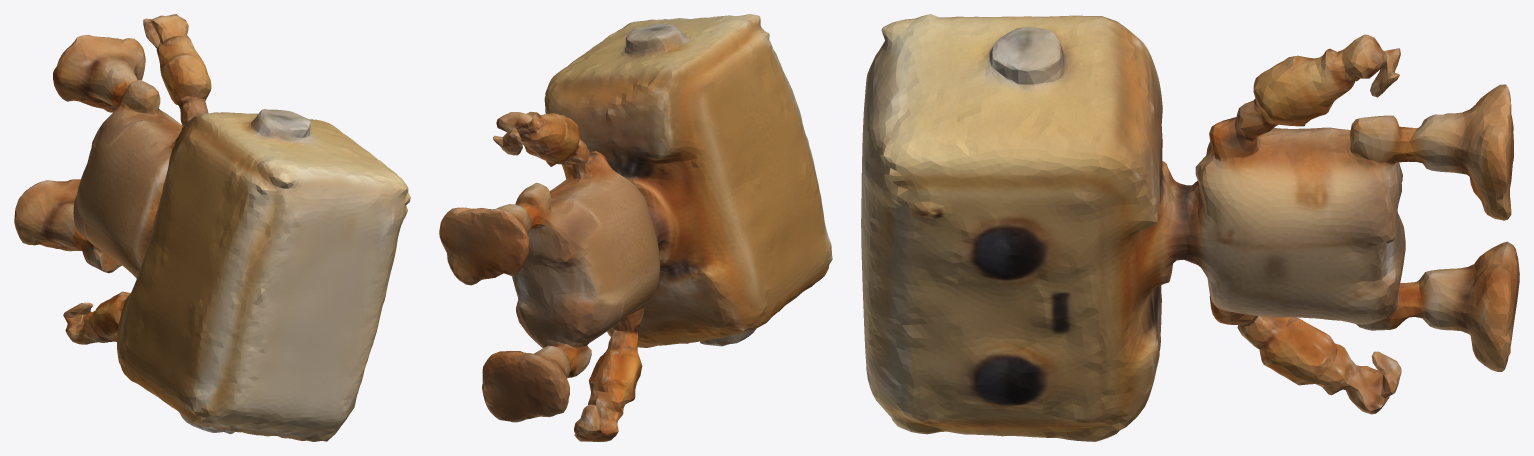
3 renders of one model, left to right at view 1: azimuth 30°, elevation 25°; view 2: azimuth 150°, elevation 25°; view 3: azimuth 270°, elevation 25°, orthographic. The views are drawn at different scales.
Bounding box in the file's own units: 0.4044 × 0.5516 × 0.7916.
1 material, 1 textured.
